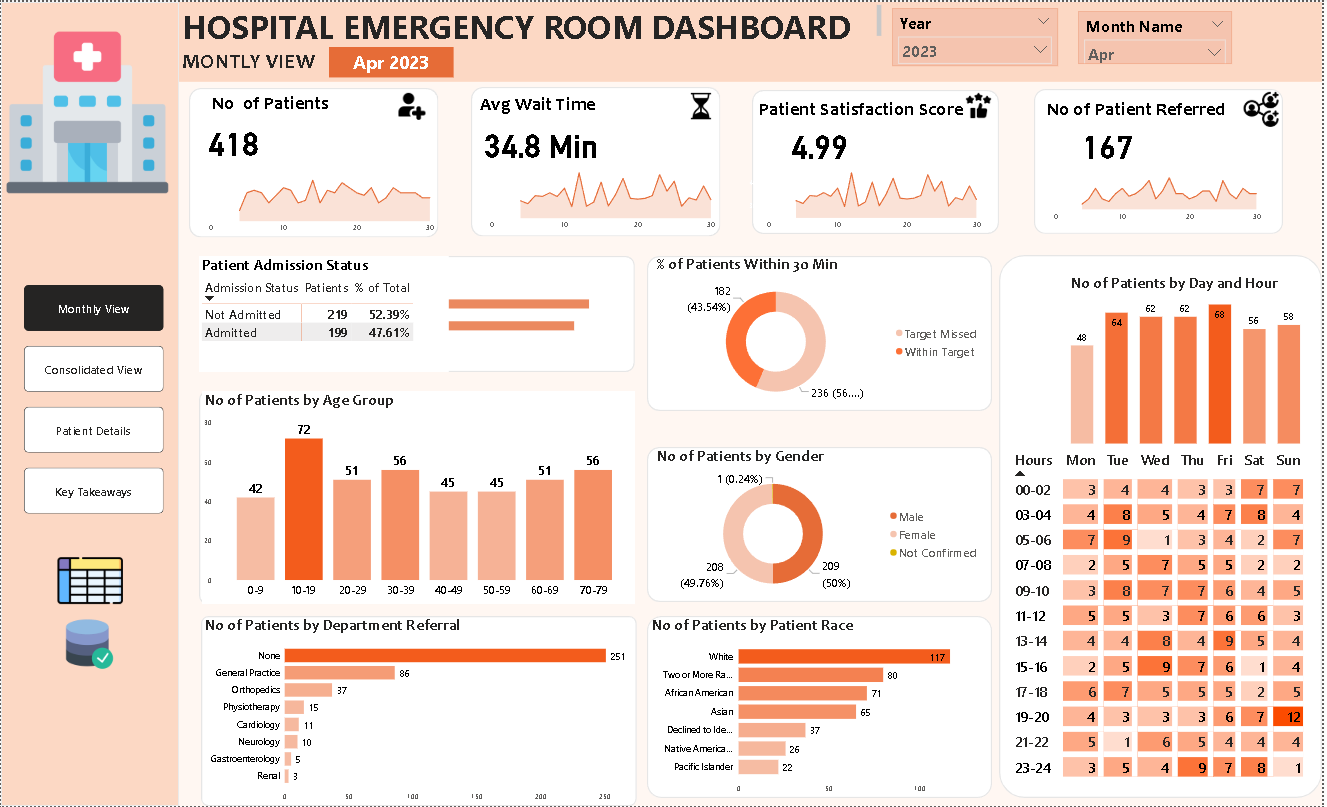

The dashboard page shown, as its layout file describes it:
{"tool":"powerbi","page":{"name":"Monthly View","canvas":[2300,1400],"ordinal":0},"visuals":[{"type":"shape","box":[1737.8,440.5,562.4,945.5],"z":0},{"type":"shape","box":[1307.7,153.2,430.1,250.7],"z":1000},{"type":"shape","box":[817.8,148.3,434.5,260.3],"z":2000},{"type":"shape","box":[0,0,310,1400],"z":3000},{"type":"shape","box":[310,0,1990.3,139.3],"z":4000},{"type":"textbox","box":[310,0,1227.6,73.1],"z":5000},{"type":"shape","box":[327.6,150,434.5,260.3],"z":6000},{"type":"card","fields":{"Values":["Hospital ER_Data.No of Patients"]},"box":[344.8,201.7,119,77.6],"z":7000},{"type":"textbox","box":[1314.7,161.9,384.8,48.8],"z":9000},{"type":"slicer","fields":{"Values":["Date Table.Month Name"]},"box":[1875.4,15.7,268.2,92.3],"z":10000},{"type":"shape","box":[1798.8,151.5,433.6,252.5],"z":11000},{"type":"textbox","box":[350,151.5,238.6,50.5],"z":12000},{"type":"textbox","box":[310,73.1,261.2,76.6],"z":13000},{"type":"areaChart","fields":{"Category":["Date Table.Date.Variation.Date Hierarchy.Day"],"Y":["Hospital ER_Data.No of Patients"]},"box":[327.6,279.3,434.5,131],"z":14000},{"type":"card","fields":{"Values":["Min(Date Table.Month & Year)"]},"box":[570.7,77.6,217.2,53.4],"z":15000},{"type":"textbox","box":[828.9,153.2,268.2,48.8],"z":16000},{"type":"card","fields":{"Values":["Hospital ER_Data.Avg Wait Time"]},"box":[829.3,205.2,222.4,77.6],"z":17000},{"type":"areaChart","fields":{"Category":["Date Table.Date.Variation.Date Hierarchy.Day"],"Y":["Avg(Hospital ER_Data.Patient Waittime)"]},"box":[817.2,281,434.5,124.1],"z":18000},{"type":"card","fields":{"Values":["Hospital ER_Data.Satisfaction Score"]},"box":[1315.5,206.9,222.4,77.6],"z":19000},{"type":"textbox","box":[1334.5,774.1,260.3,48.3],"z":20000},{"type":"areaChart","fields":{"Category":["Date Table.Date.Variation.Date Hierarchy.Day"],"Y":["Avg(Hospital ER_Data.Patient Waittime)"]},"box":[1299,280.3,414.4,123.6],"z":21000},{"type":"textbox","box":[1816.2,161.9,384.8,48.8],"z":22000},{"type":"card","fields":{"Values":["Hospital ER_Data.No of Patient Referred"]},"box":[1815.5,206.9,222.4,77.6],"z":23000},{"type":"areaChart","fields":{"Category":["Date Table.Date.Variation.Date Hierarchy.Day"],"Y":["Hospital ER_Data.No of Patient Referred"]},"box":[1798.8,278.6,402.2,111.4],"z":24000},{"type":"shape","box":[345.3,441.6,758.7,202],"z":25000},{"type":"barChart","fields":{"Category":["Hospital ER_Data.Admission Status"],"Y":["Hospital ER_Data.No of Patients"]},"box":[734.8,485.8,334.3,113.2],"z":26000},{"type":"pivotTable","title":"Patient Admission Status","fields":{"Rows":["Hospital ER_Data.Admission Status"],"Values":["Hospital ER_Data.No of Patients1","Hospital ER_Data.No of Patients"]},"box":[345.3,441.6,434.6,202],"z":27000},{"type":"shape","box":[345.3,676.5,758.7,371.1],"z":28000},{"type":"clusteredColumnChart","fields":{"Category":["Hospital ER_Data.Age Group"],"Y":["Hospital ER_Data.No of Patients"]},"box":[350,676.5,754,371.1],"z":29000},{"type":"shape","box":[347.7,1068.8,758.7,331.2],"z":30000},{"type":"clusteredBarChart","fields":{"Category":["Hospital ER_Data.Department Referral"],"Y":["Hospital ER_Data.No of Patients"]},"box":[350,1068.8,756.4,331.2],"z":31000},{"type":"shape","box":[1124.9,442.3,600.7,269.9],"z":32000},{"type":"donutChart","title":"% of Patients Within 30 Min","fields":{"Category":["Hospital ER_Data.Waittime Status"],"Y":["Hospital ER_Data.No of Patients"]},"box":[1137.1,440.5,576.4,269.9],"z":33000},{"type":"shape","box":[1124.9,774.9,600.7,269.9],"z":34000},{"type":"donutChart","title":"No of Patients by Gender","fields":{"Y":["Hospital ER_Data.No of Patients"],"Category":["Hospital ER_Data.Patient Gender"]},"box":[1137.1,774.9,576.4,269.9],"z":35000},{"type":"shape","box":[1124.9,1069.2,600.7,316.9],"z":36000},{"type":"clusteredBarChart","fields":{"Y":["Hospital ER_Data.No of Patients"],"Category":["Hospital ER_Data.Patient Race"]},"box":[1128.4,1069.2,571.1,316.9],"z":37000},{"type":"pivotTable","fields":{"Rows":["Hospital ER_Data.Waittime Interval"],"Columns":["Date Table.Day Name"],"Values":["Hospital ER_Data.No of Patients"]},"box":[1755.2,774.9,522.4,588.6],"z":38000},{"type":"columnChart","title":"No of Patients by Day and Hour","fields":{"Category":["Date Table.Day Name"],"Y":["Hospital ER_Data.No of Patients"]},"box":[1858,473.6,410.9,301.2],"z":39000},{"type":"image","box":[679.1,153.2,73.1,57.5],"z":40000},{"type":"image","box":[1185.8,153.2,66.2,55.7],"z":41000},{"type":"image","box":[1675.1,153.2,54,54],"z":42000},{"type":"image","box":[2155.7,151.5,76.6,71.4],"z":43000},{"type":"image","box":[0,41.8,301.2,301.2],"z":44000},{"type":"slicer","fields":{"Values":["Date Table.Year"]},"box":[1551.5,10.4,289.1,101],"z":44001},{"type":"pageNavigator","box":[40,492.8,243.8,400.5],"z":44002}]}

Visuals, with their boxes in screenshot pixels (x1, y1, x2, y2), scaled from the page's 2300x1400 canvas onto the 1327x807 screenshot:
shape: crop(1003, 254, 1326, 799)
shape: crop(754, 88, 1003, 233)
shape: crop(472, 85, 723, 236)
shape: crop(0, 0, 179, 806)
shape: crop(179, 0, 1326, 80)
textbox: crop(179, 0, 887, 42)
shape: crop(189, 86, 440, 237)
card - Hospital ER_Data.No of Patients: crop(199, 116, 268, 161)
textbox: crop(759, 93, 981, 121)
slicer - Date Table.Month Name: crop(1082, 9, 1237, 62)
shape: crop(1038, 87, 1288, 233)
textbox: crop(202, 87, 340, 116)
textbox: crop(179, 42, 330, 86)
areaChart - Date Table.Date.Variation.Date Hierarchy.Day x Hospital ER_Data.No of Patients: crop(189, 161, 440, 237)
card - Min(Date Table.Month & Year): crop(329, 45, 455, 76)
textbox: crop(478, 88, 633, 116)
card - Hospital ER_Data.Avg Wait Time: crop(478, 118, 607, 163)
areaChart - Date Table.Date.Variation.Date Hierarchy.Day x Avg(Hospital ER_Data.Patient Waittime): crop(471, 162, 722, 234)
card - Hospital ER_Data.Satisfaction Score: crop(759, 119, 887, 164)
textbox: crop(770, 446, 920, 474)
areaChart - Date Table.Date.Variation.Date Hierarchy.Day x Avg(Hospital ER_Data.Patient Waittime): crop(749, 162, 989, 233)
textbox: crop(1048, 93, 1270, 121)
card - Hospital ER_Data.No of Patient Referred: crop(1047, 119, 1176, 164)
areaChart - Date Table.Date.Variation.Date Hierarchy.Day x Hospital ER_Data.No of Patient Referred: crop(1038, 161, 1270, 225)
shape: crop(199, 255, 637, 371)
barChart - Hospital ER_Data.Admission Status x Hospital ER_Data.No of Patients: crop(424, 280, 617, 345)
"Patient Admission Status" pivotTable: crop(199, 255, 450, 371)
shape: crop(199, 390, 637, 604)
clusteredColumnChart - Hospital ER_Data.Age Group x Hospital ER_Data.No of Patients: crop(202, 390, 637, 604)
shape: crop(201, 616, 638, 806)
clusteredBarChart - Hospital ER_Data.Department Referral x Hospital ER_Data.No of Patients: crop(202, 616, 638, 806)
shape: crop(649, 255, 996, 411)
"% of Patients Within 30 Min" donutChart: crop(656, 254, 989, 409)
shape: crop(649, 447, 996, 602)
"No of Patients by Gender" donutChart: crop(656, 447, 989, 602)
shape: crop(649, 616, 996, 799)
clusteredBarChart - Hospital ER_Data.No of Patients x Hospital ER_Data.Patient Race: crop(651, 616, 981, 799)
pivotTable - Hospital ER_Data.Waittime Interval x Date Table.Day Name: crop(1013, 447, 1314, 786)
"No of Patients by Day and Hour" columnChart: crop(1072, 273, 1309, 447)
image: crop(392, 88, 434, 121)
image: crop(684, 88, 722, 120)
image: crop(966, 88, 998, 119)
image: crop(1244, 87, 1288, 128)
image: crop(0, 24, 174, 198)
slicer - Date Table.Year: crop(895, 6, 1062, 64)
pageNavigator: crop(23, 284, 164, 515)
